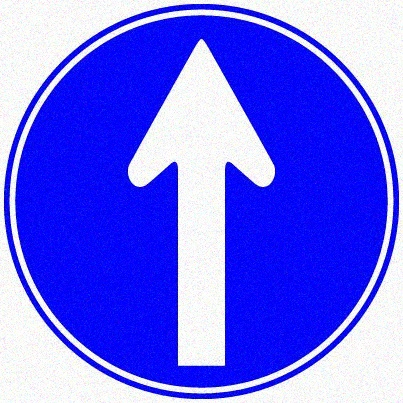Direction_sign: (7, 4, 402, 401)
